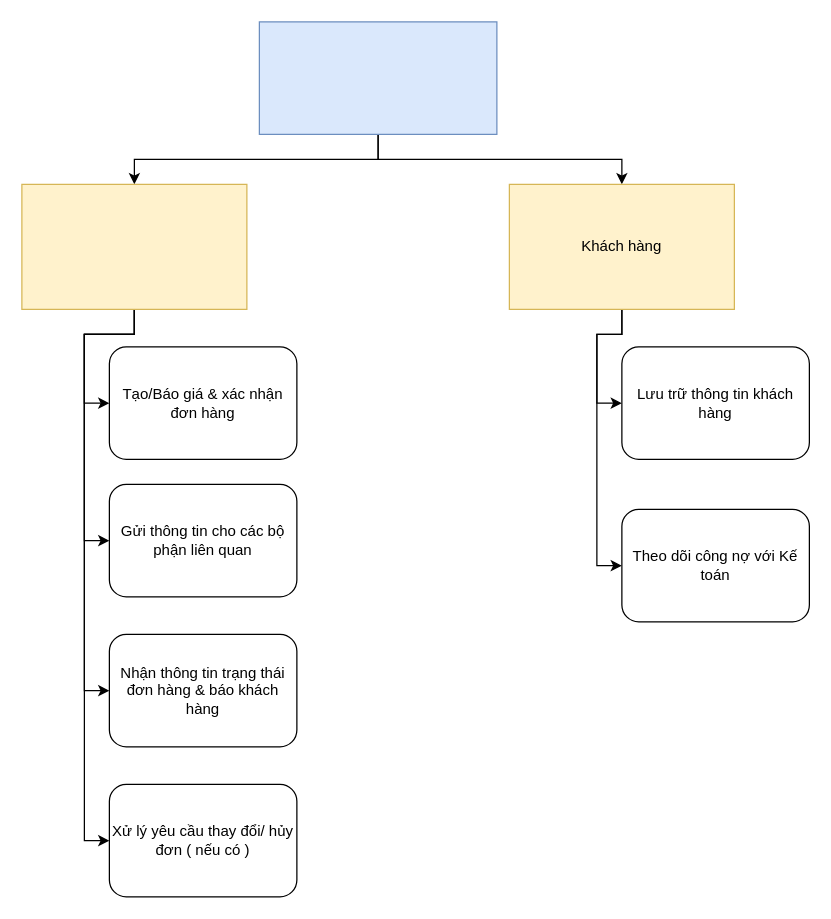
Image size: 831x919. Some labels were removed from this diagram. Each missing label, with the centre of its shape:
Nhân viên kinh doanh: (377,77)
Đơn hàng: (134,246)
